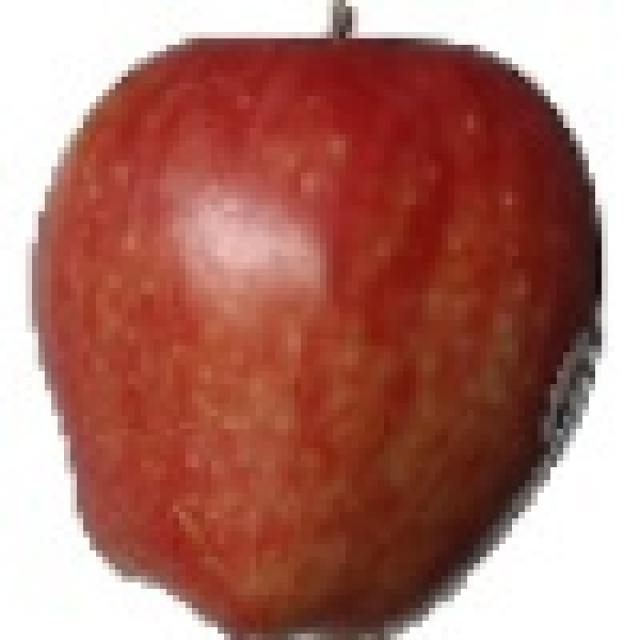apple: (26, 19, 611, 628)
